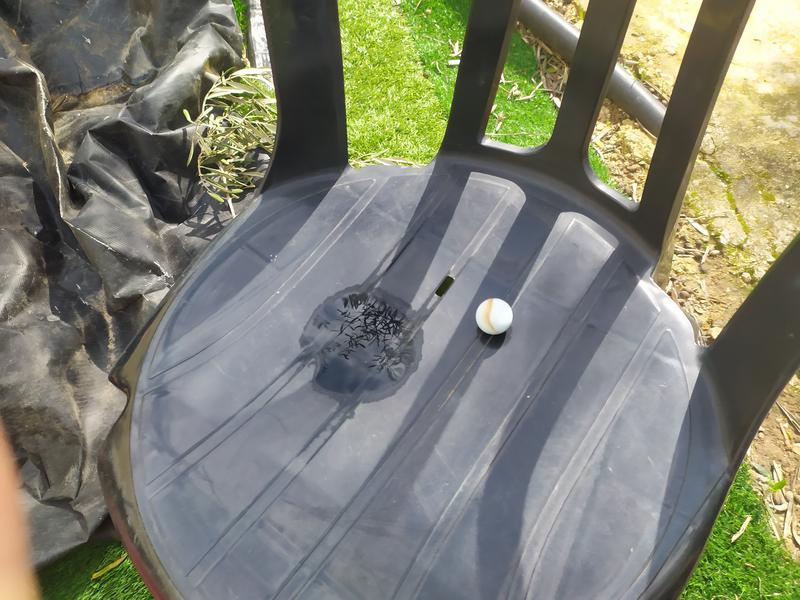Warning: (473, 296, 515, 337)
